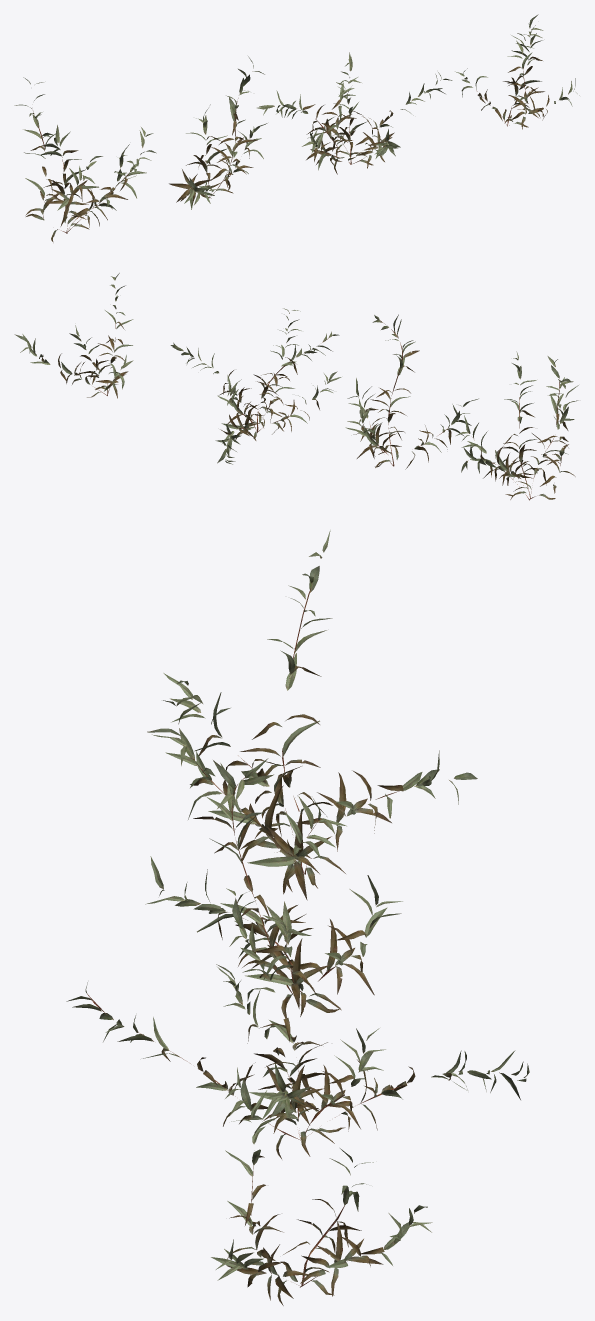
File: assets__ph__shrub_02.glb
The picture shows the model from 3 angles, top to bottom: view 1: azimuth 30°, elevation 25°; view 2: azimuth 150°, elevation 25°; view 3: azimuth 270°, elevation 25°; orthographic projection. The views are drawn at different scales.
Visible parts, largest first — view 1: shrub_02_a; view 2: shrub_02_a; view 3: shrub_02_a.
Boxes of the visible parts, x1=… form: shrub_02_a: x1=14, y1=14, x2=579, y2=242; shrub_02_a: x1=14, y1=273, x2=578, y2=500; shrub_02_a: x1=66, y1=530, x2=529, y2=1305.
Size of the model in its own units: 6.04 by 1.7 by 2.28.
Materials: 1 (1 with a texture image).
